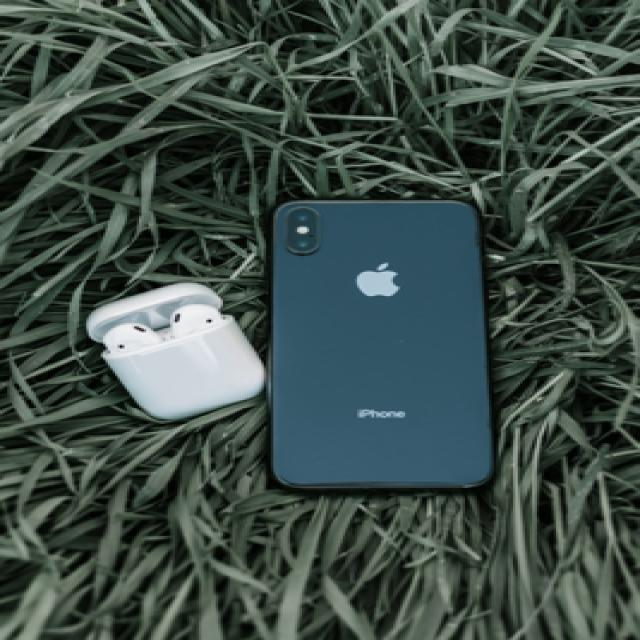cellphone: (266, 198, 494, 490)
